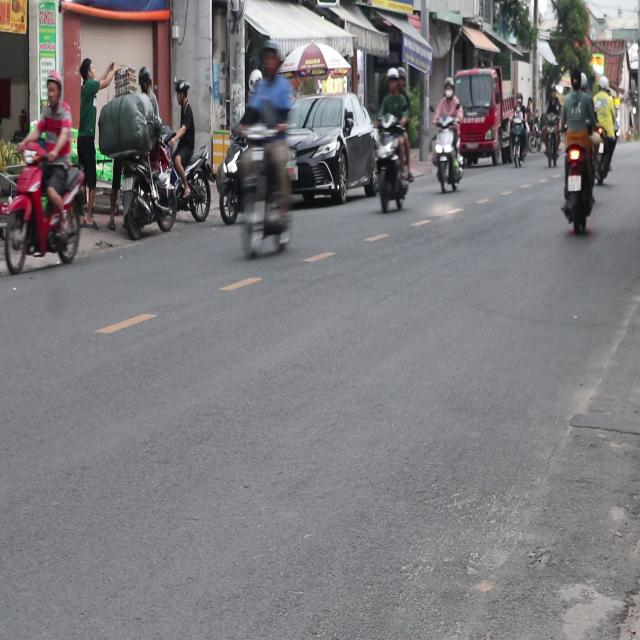helmet: (260, 36, 281, 77), (44, 69, 62, 108), (386, 66, 398, 93)
licenseplate: (0, 67, 86, 276), (230, 34, 298, 267), (559, 65, 597, 232), (372, 65, 412, 213)
motorcyclist: (568, 65, 582, 90)
nohelmet: (568, 175, 580, 190)
